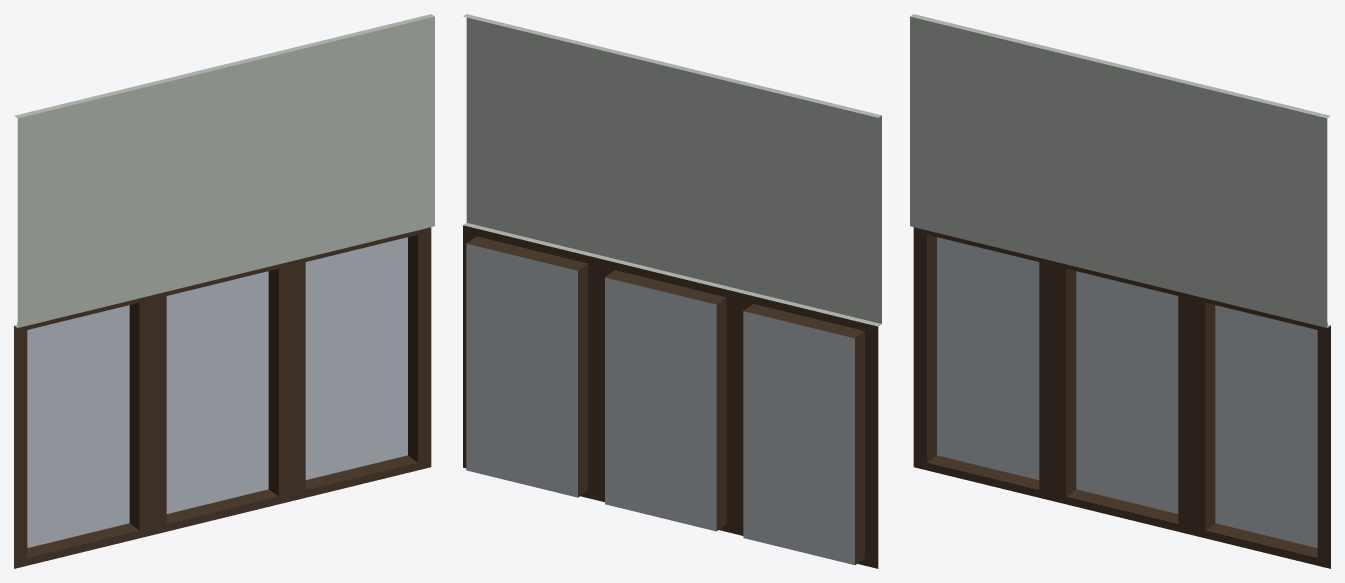
Rendered from fbx_building_2_window1.fbx.
The picture shows the model from 3 angles, left to right: view 1: azimuth 30°, elevation 25°; view 2: azimuth 150°, elevation 25°; view 3: azimuth 330°, elevation 25°; orthographic projection.
Parts seen in each view (by area): view 1: fbx_building_2_window1; view 2: fbx_building_2_window1; view 3: fbx_building_2_window1.
Boxes of the visible parts, bbox=[...] form: fbx_building_2_window1: bbox=[14, 14, 434, 568]; fbx_building_2_window1: bbox=[463, 14, 881, 568]; fbx_building_2_window1: bbox=[910, 14, 1330, 568].
Bounding box in the file's own units: 1.03 × 1.07 × 0.0581.
2 materials, 1 textured.
